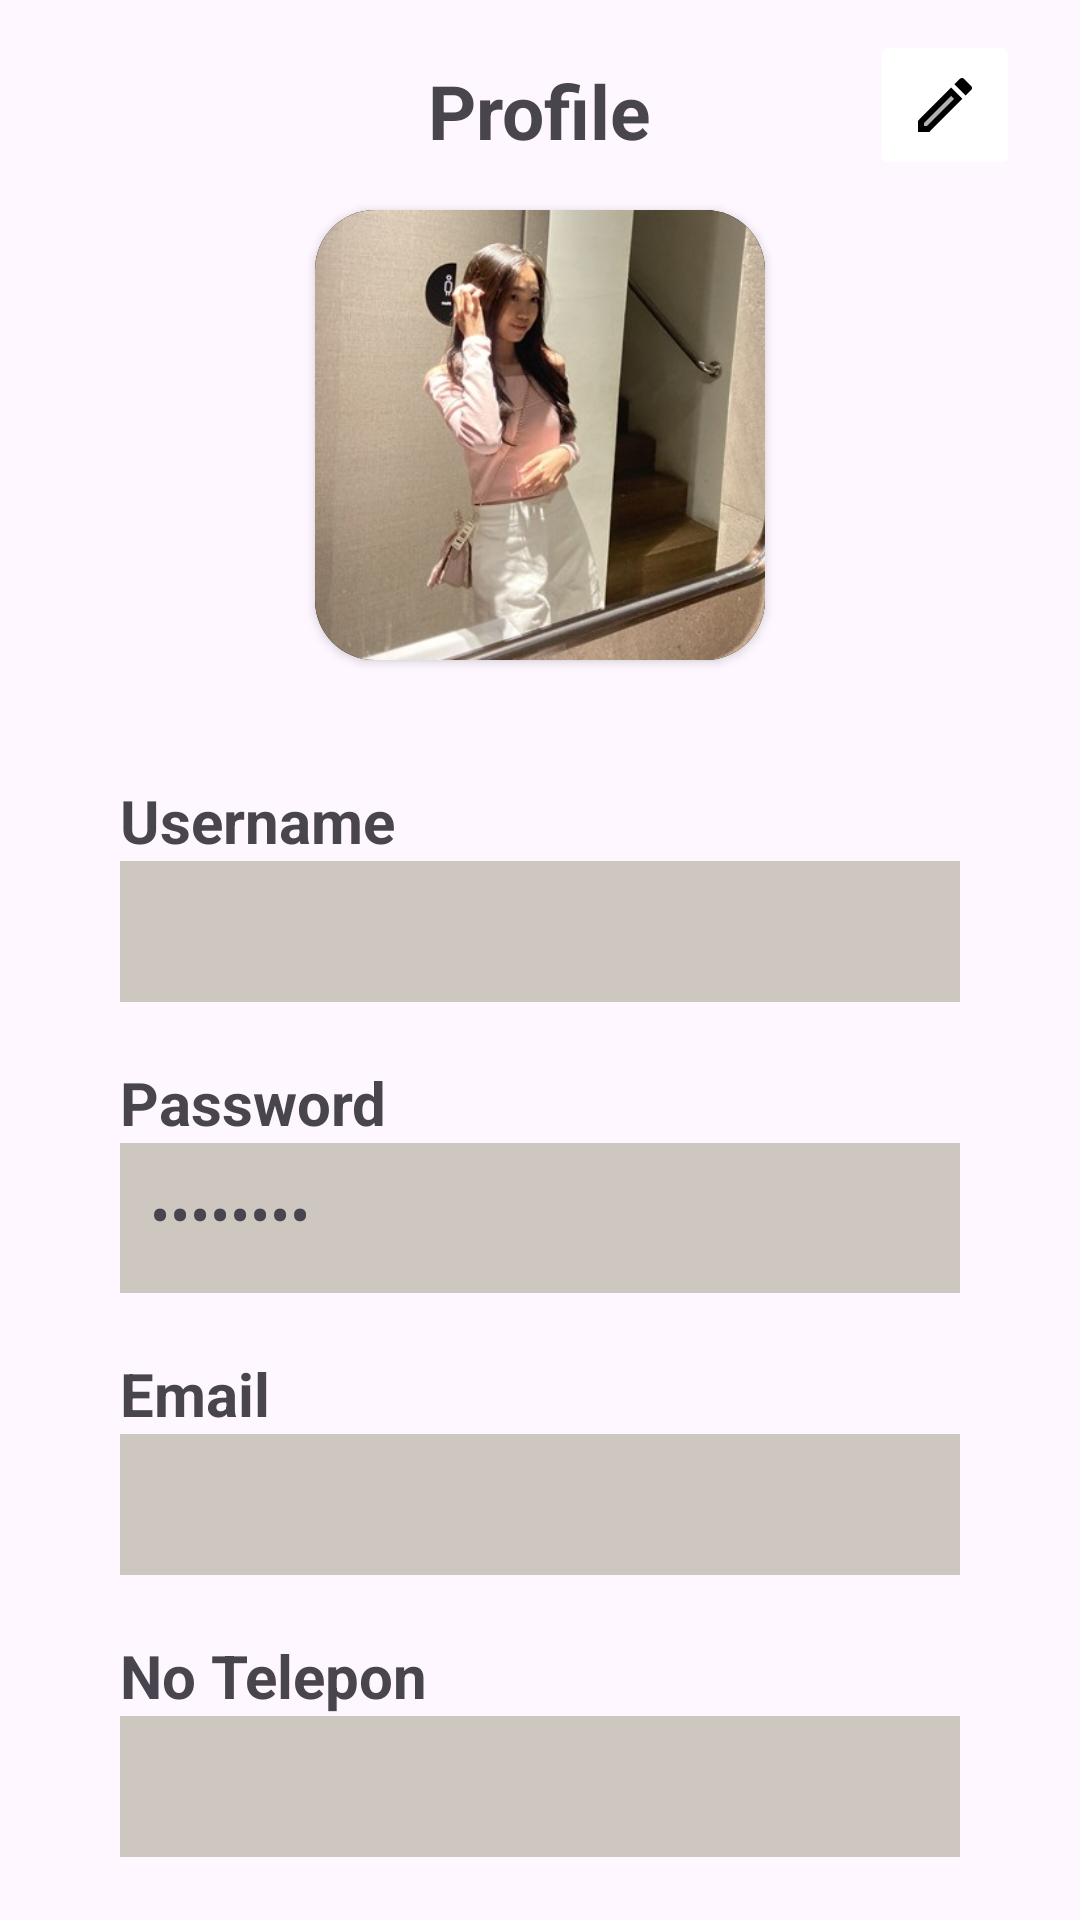

Named icons in this screenshot (1080x1920) and their bounding boxes, (x1, y1, x2, y2):
edit profile: (918, 78, 972, 132)
